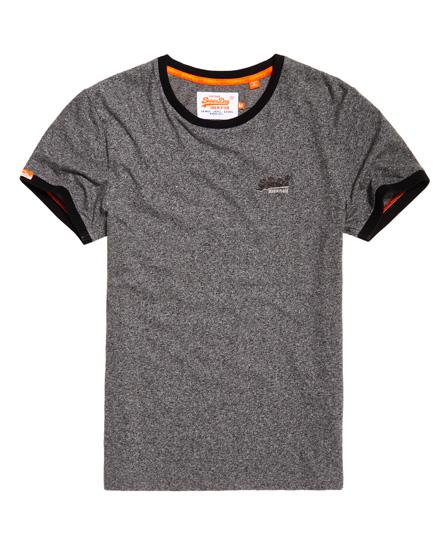teeshirt: (16, 52, 433, 515)
